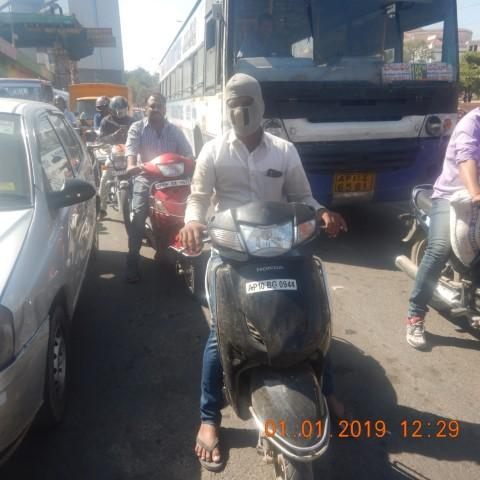plate: (245, 278, 298, 292)
